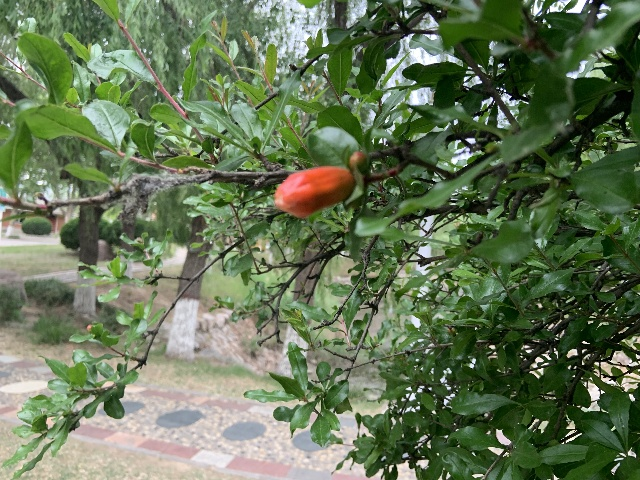bud: (274, 165, 354, 218), (350, 150, 366, 173)
